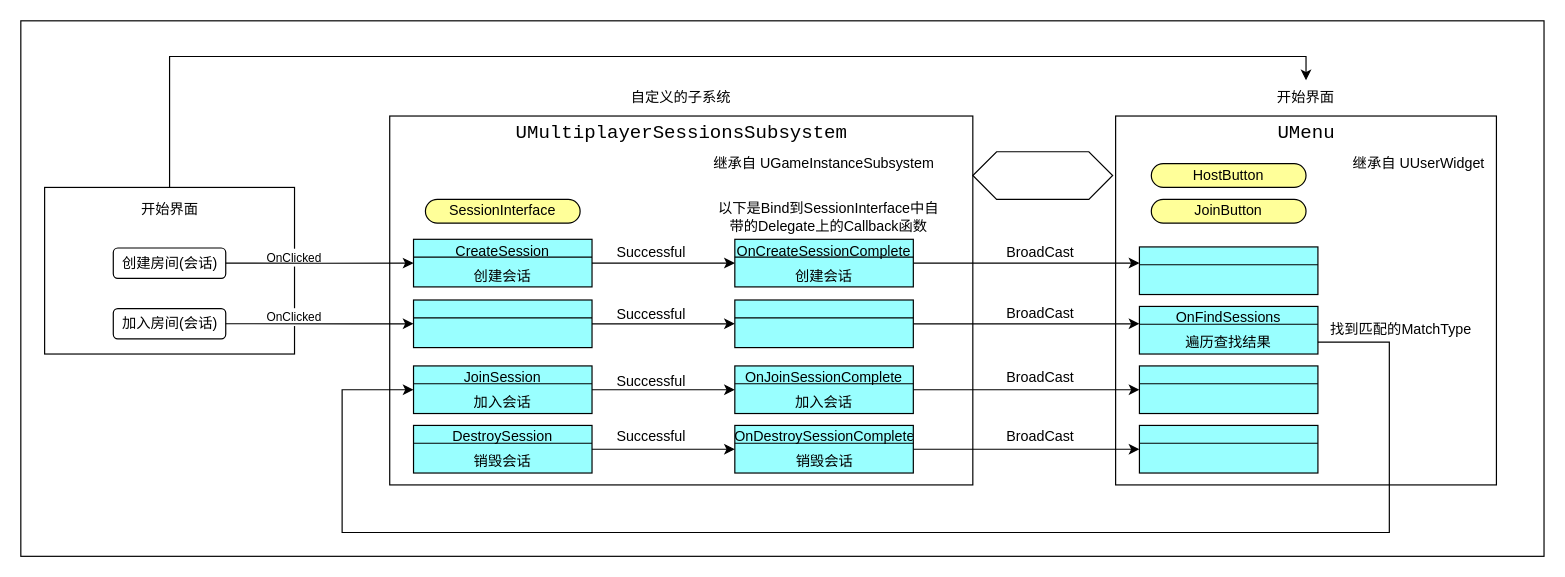
Some shapes in this 1565 by 577 pixel diagram are drawn without their labels. The centre of each missing label's shape, as x and y in pixels:
"FindSessions 查找会话" goes at [502,323].
"OnCreateSession ServerTravel到大厅关卡" goes at [1228,270].
"OnDestroySession" goes at [1228,448].
"OnFindSessionsComplete 查找会话" goes at [823,323].
"OnJoinSession ClientTravel到大厅关卡" goes at [1228,389].
"两个类通过自定义 的Delegate通信" goes at [1042,175].
